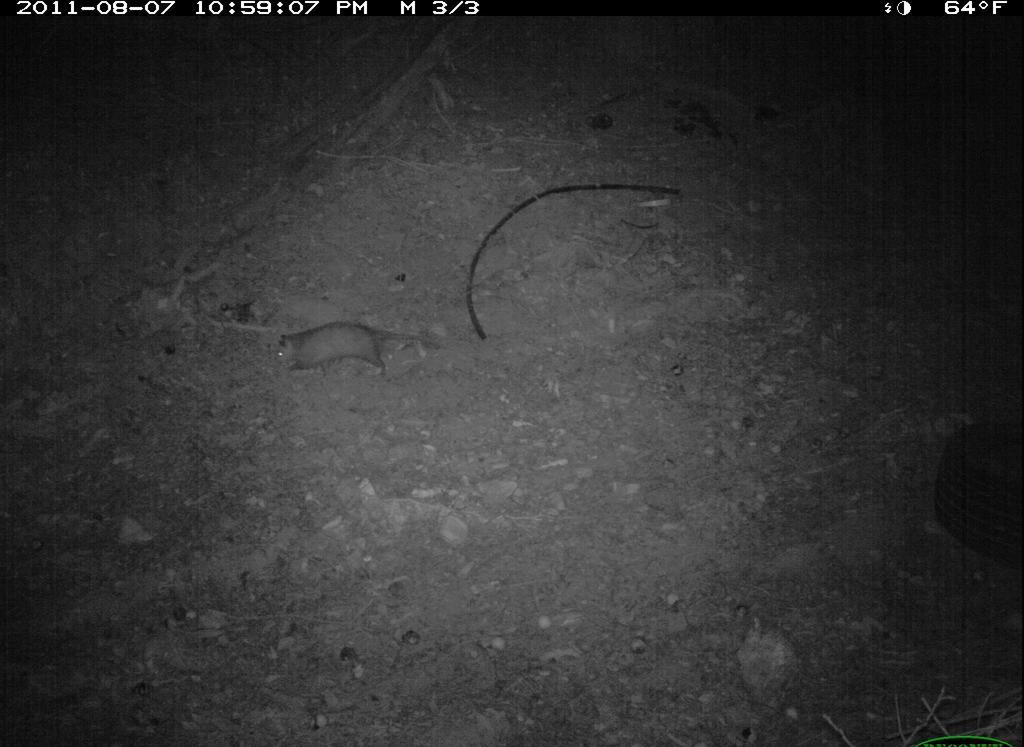opossum: (267, 310, 456, 387)
